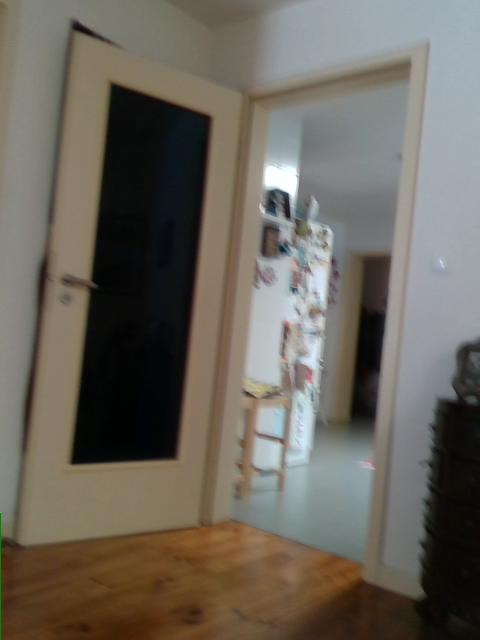door: (15, 30, 242, 547)
